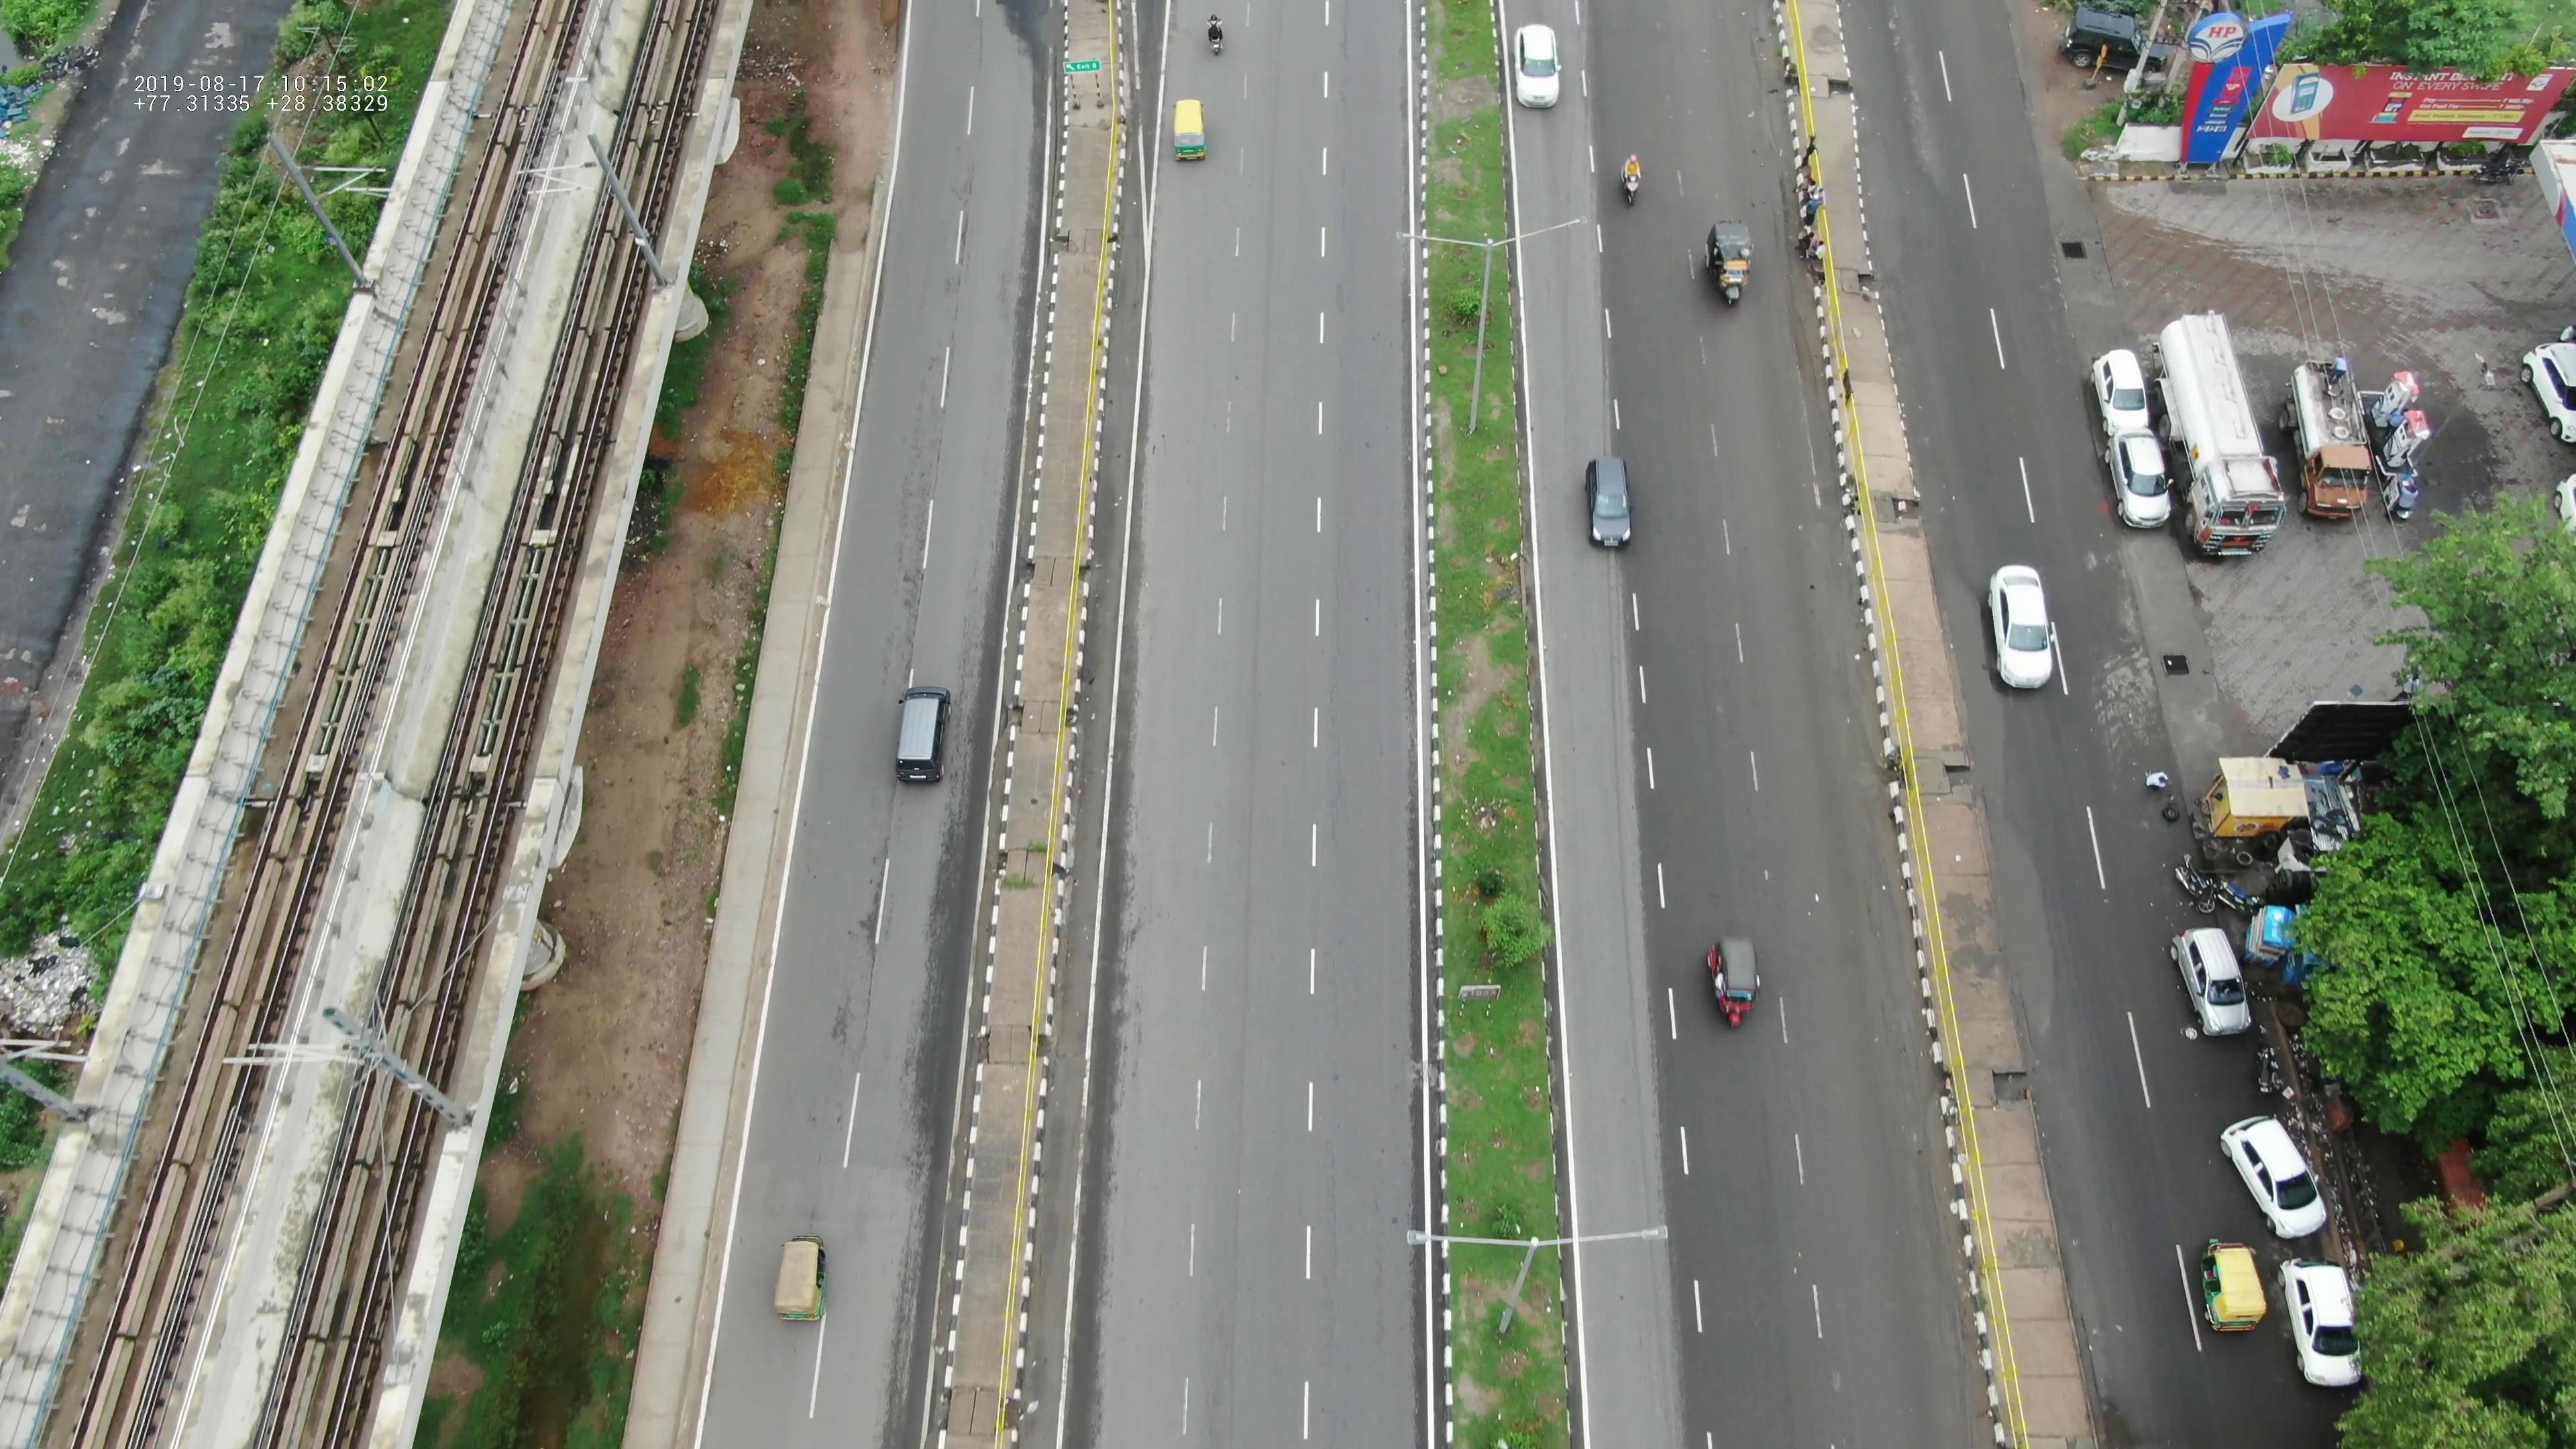Waterlogging: (1976, 757, 2072, 1058)
